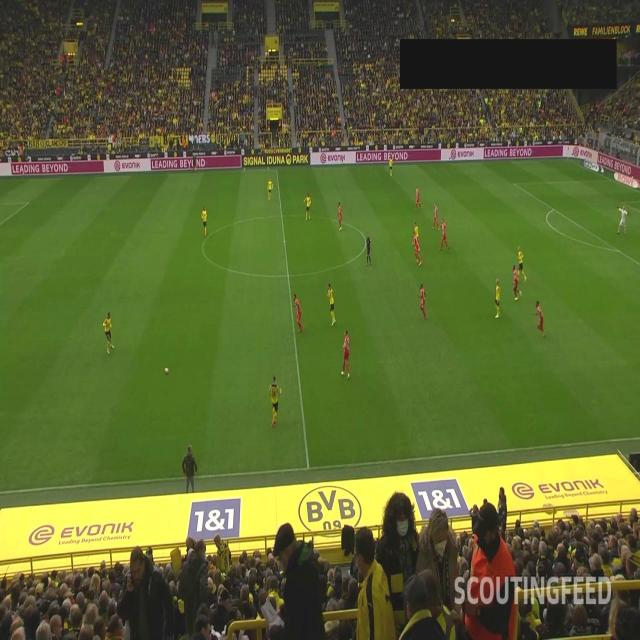ball: (164, 368, 169, 376)
goalkeeper: (617, 203, 629, 235)
player: (269, 374, 281, 427), (532, 300, 546, 338), (102, 312, 114, 354), (341, 329, 350, 380), (293, 292, 304, 332), (328, 282, 337, 326), (516, 245, 526, 282), (438, 218, 449, 251), (418, 284, 426, 322), (413, 233, 422, 266), (302, 192, 312, 220), (513, 264, 520, 300), (494, 278, 500, 318), (201, 206, 208, 238), (432, 203, 439, 229), (415, 187, 422, 210), (268, 177, 274, 200), (388, 155, 394, 177), (338, 202, 342, 232)
referee: (366, 233, 372, 266), (192, 151, 198, 174)
